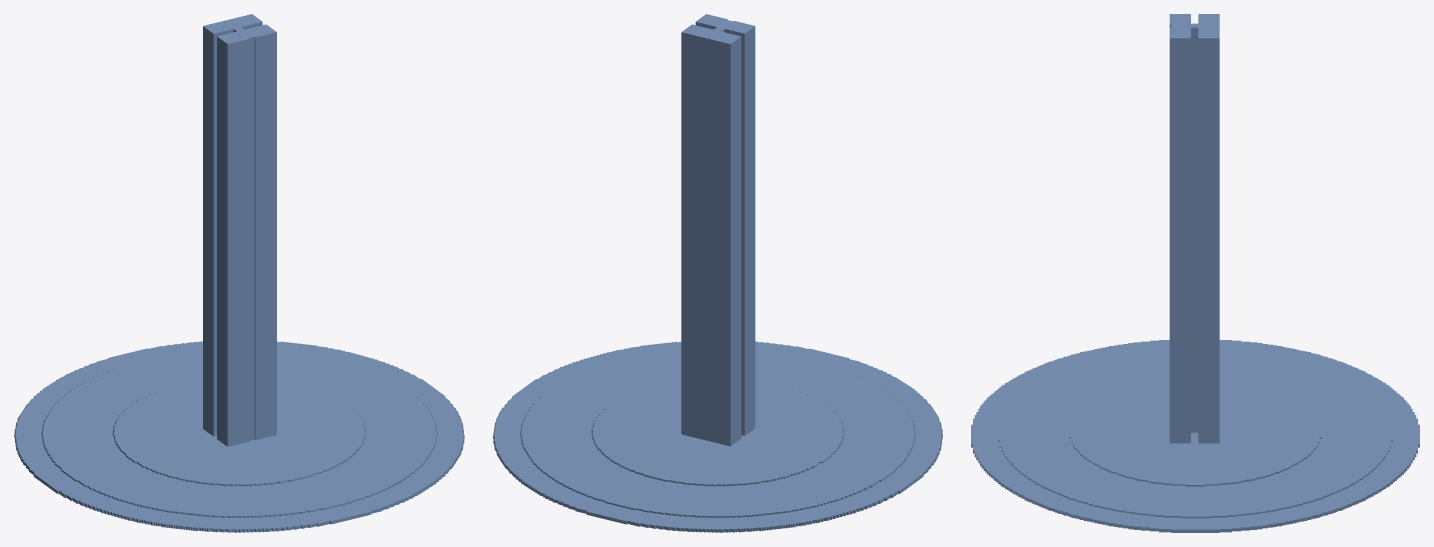
Rendered from elevator.obj.
3 renders of one model, left to right at view 1: azimuth 30°, elevation 25°; view 2: azimuth 150°, elevation 25°; view 3: azimuth 270°, elevation 25°, orthographic.
Bounding box in the file's own units: 25.2 × 25.6 × 25.1.
